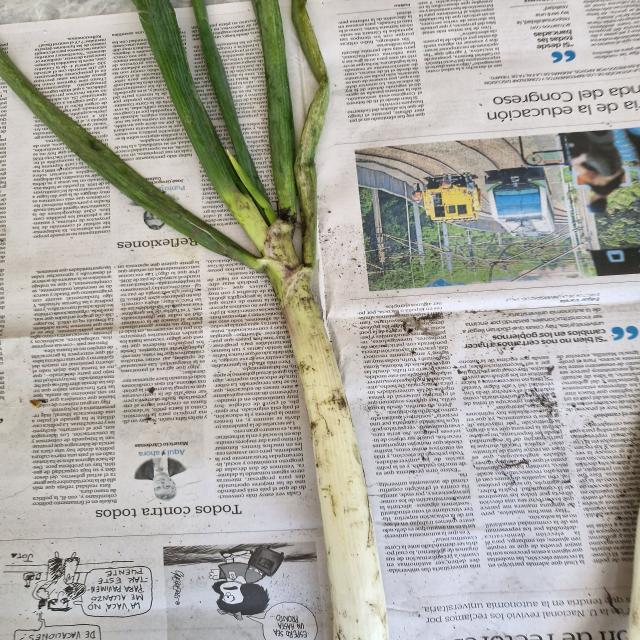green_onion: (0, 0, 393, 631)
